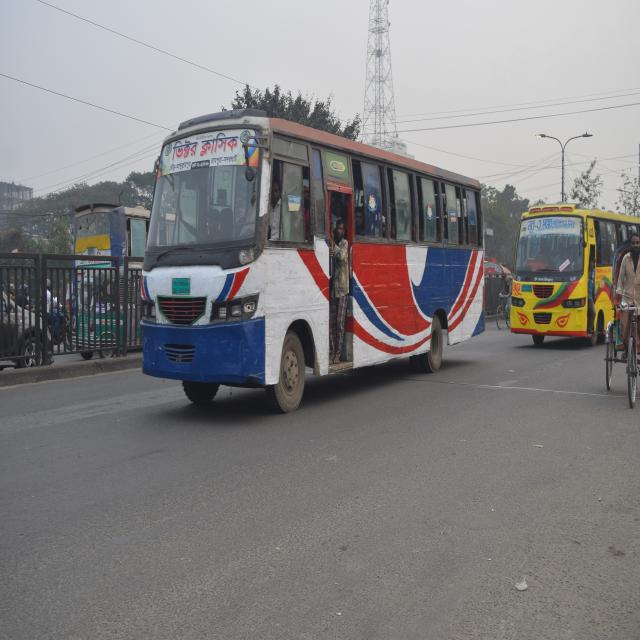bus: (142, 115, 490, 372), (520, 211, 632, 362), (79, 209, 139, 361)
